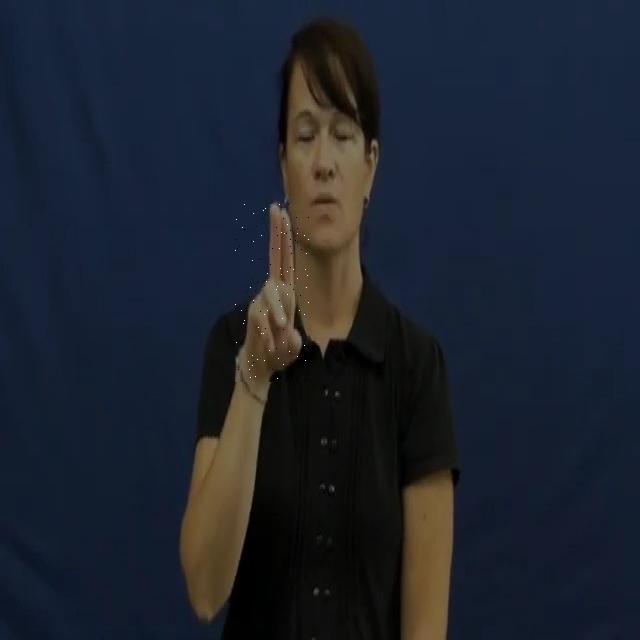menu: (236, 204, 310, 382)
